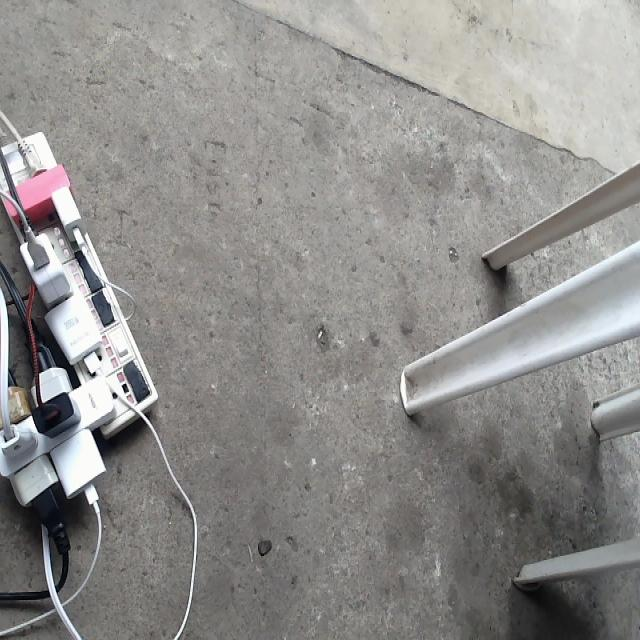-: (0, 122, 157, 558)
